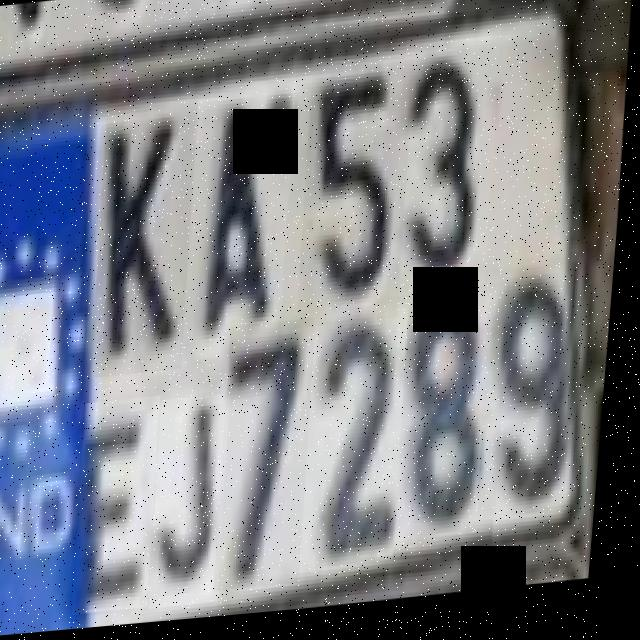3: (408, 39, 491, 303)
5: (314, 64, 404, 333)
7: (232, 325, 319, 595)
8: (415, 294, 502, 566)
9: (497, 273, 580, 525)
A: (203, 64, 285, 364)
E: (83, 400, 166, 616)
J: (159, 403, 237, 609)
K: (108, 96, 200, 379)
